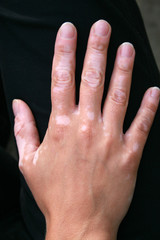vitiligo: (54, 29, 147, 156)
